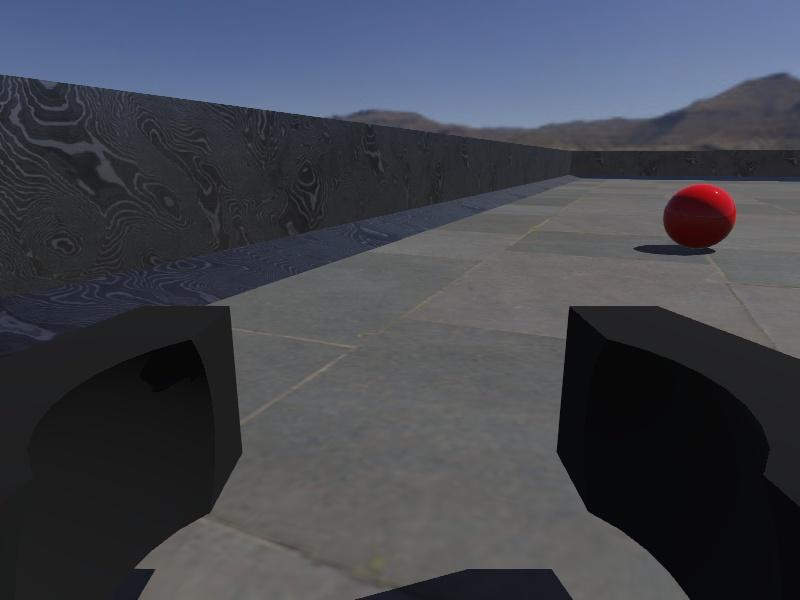red ball: (662, 182, 738, 252)
